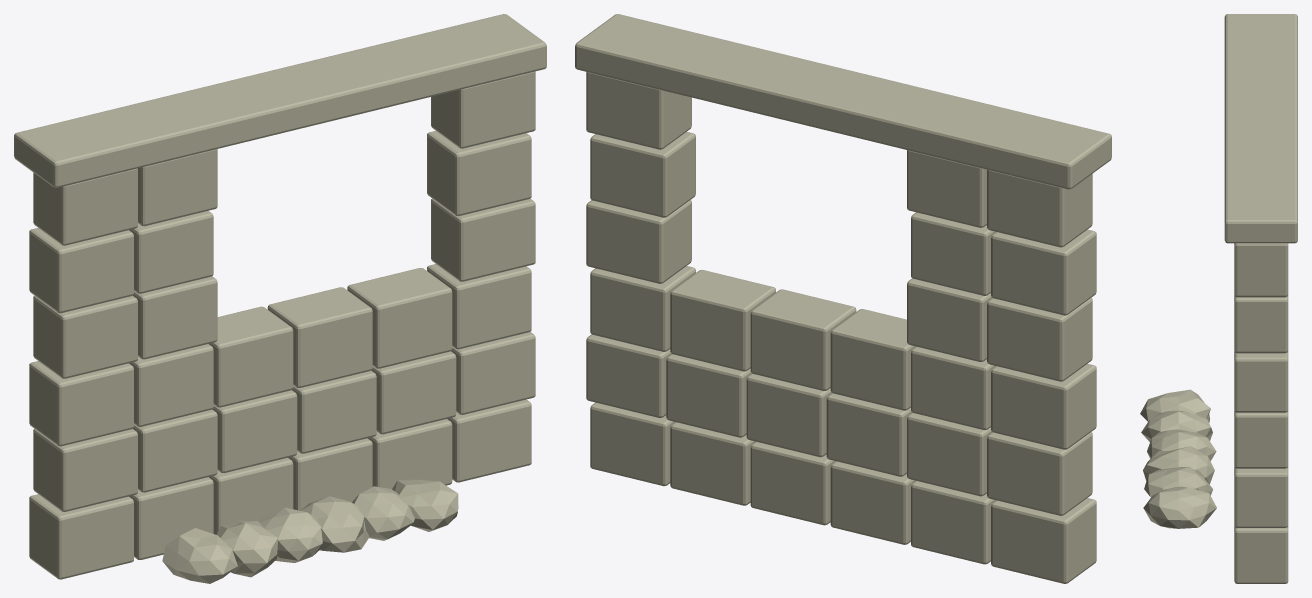
The model's file is a4_wall_broken.glb.
3 views of the same model, side by side, from view 1: azimuth 30°, elevation 25°; view 2: azimuth 150°, elevation 25°; view 3: azimuth 270°, elevation 25° (orthographic). The views are drawn at different scales.
Visible parts, largest first — view 1: Body.037; view 2: Body.037; view 3: Body.037.
Part boxes in pixels (box(x1,y1,x2,y2)): Body.037: box(14, 14, 546, 583); Body.037: box(575, 14, 1111, 583); Body.037: box(1140, 14, 1297, 583).
Size of the model in its own units: 3.1 by 2.57 by 0.9927.
